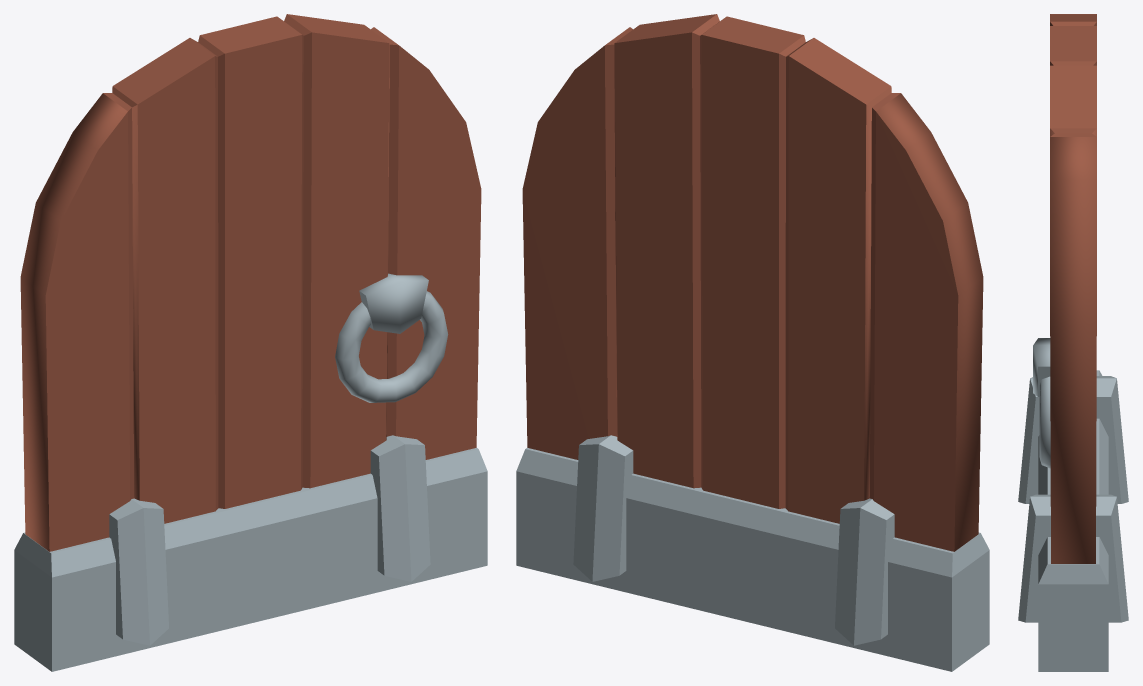
File: Door.glb
3 views of the same model, side by side, from view 1: azimuth 30°, elevation 25°; view 2: azimuth 150°, elevation 25°; view 3: azimuth 270°, elevation 25° (orthographic). The views are drawn at different scales.
Parts seen in each view (by area): view 1: door; view 2: door; view 3: door.
Boxes of the visible parts, bbox=[...] form: door: bbox=[14, 14, 487, 671]; door: bbox=[516, 14, 989, 671]; door: bbox=[1018, 14, 1128, 671].
Size of the model in its own units: 2 by 2.5 by 0.4738.
